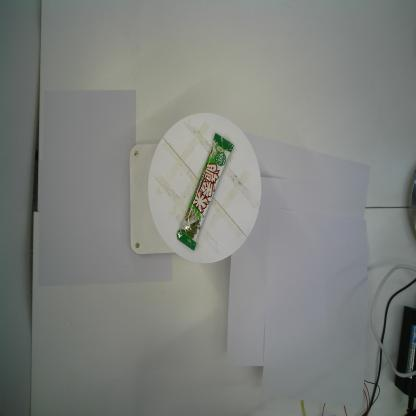Chocolate: (176, 131, 234, 251)
